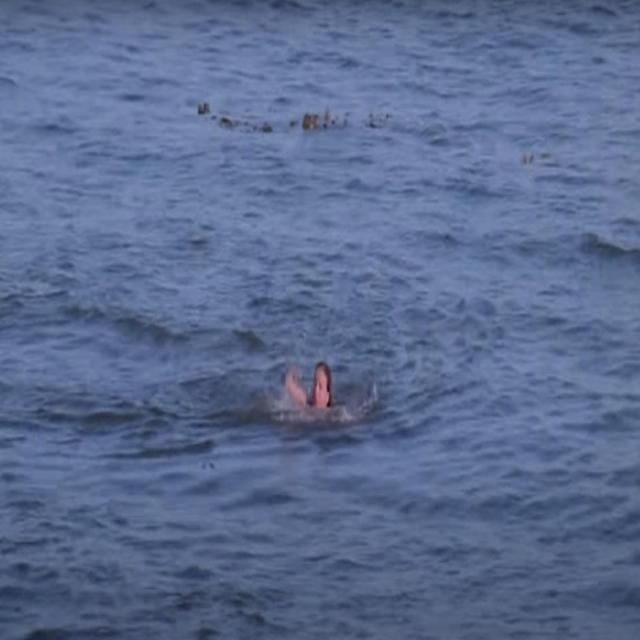Out of Water: (282, 351, 337, 424)
